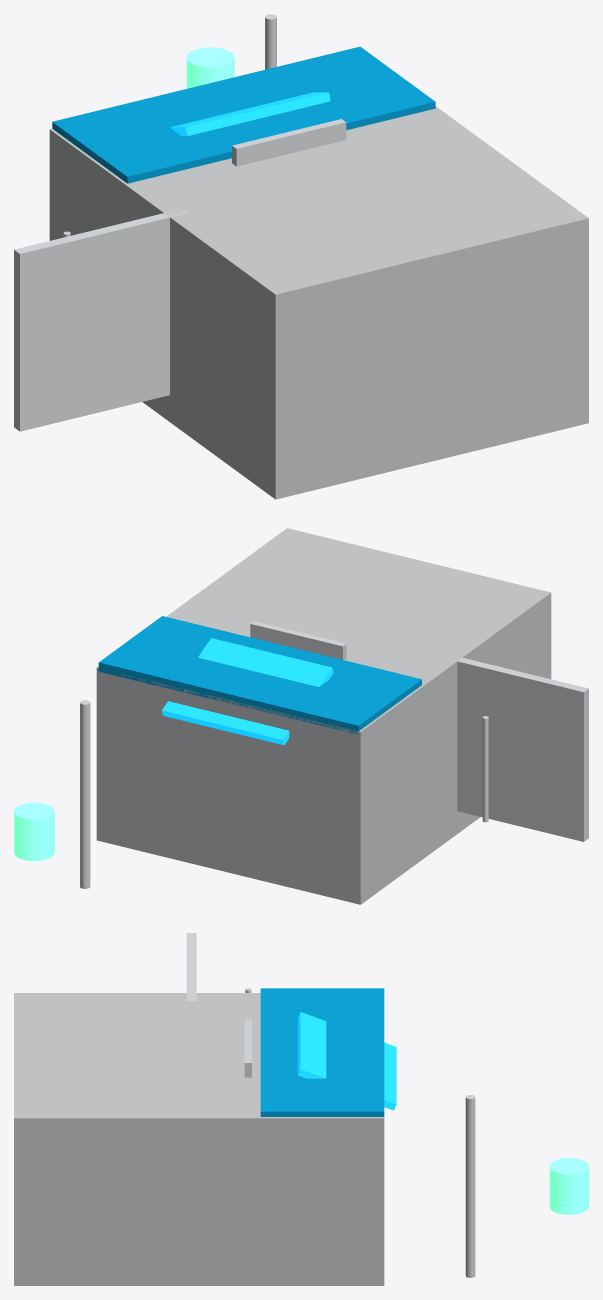
File: self_checkout.glb
The picture shows the model from 3 angles, top to bottom: view 1: azimuth 30°, elevation 25°; view 2: azimuth 150°, elevation 25°; view 3: azimuth 270°, elevation 25°; orthographic projection. The views are drawn at different scales.
Parts seen in each view (by area): view 1: Cube, Cube.004, Cube.001, Cube.003, Cube.002, Cylinder.002, Cylinder.001; view 2: Cube, Cube.004, Cube.001, Cube.002, Cylinder.002, Cylinder.001, Cube.003, Cylinder; view 3: Cube, Cube.001, Cube.002, Cylinder.002, Cylinder.001, Cube.004, Cube.003.
Boxes of the visible parts, x1=… form: Cube: x1=49, y1=106, x2=588, y2=499; Cube.004: x1=14, y1=209, x2=188, y2=431; Cube.001: x1=52, y1=46, x2=435, y2=183; Cube.003: x1=232, y1=119, x2=346, y2=166; Cube.002: x1=170, y1=92, x2=330, y2=136; Cylinder.002: x1=186, y1=47, x2=234, y2=88; Cylinder.001: x1=265, y1=14, x2=276, y2=69; Cube: x1=96, y1=528, x2=551, y2=904; Cube.004: x1=457, y1=657, x2=588, y2=841; Cube.001: x1=98, y1=616, x2=421, y2=734; Cube.002: x1=162, y1=638, x2=333, y2=745; Cylinder.002: x1=14, y1=802, x2=54, y2=861; Cylinder.001: x1=80, y1=700, x2=90, y2=888; Cube.003: x1=250, y1=621, x2=346, y2=660; Cylinder: x1=482, y1=716, x2=488, y2=822; Cube: x1=14, y1=993, x2=384, y2=1285; Cube.001: x1=260, y1=988, x2=384, y2=1116; Cube.002: x1=297, y1=1012, x2=396, y2=1110; Cylinder.002: x1=549, y1=1158, x2=588, y2=1214; Cylinder.001: x1=465, y1=1095, x2=475, y2=1277; Cube.004: x1=186, y1=933, x2=196, y2=1000; Cube.003: x1=244, y1=1019, x2=251, y2=1077.
Bounding box in the file's own units: 1.77 × 0.8426 × 2.33.
